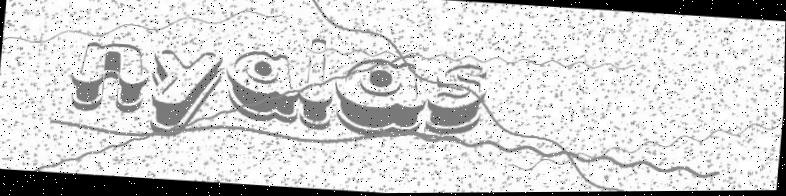a: (330, 50, 431, 141), (220, 47, 304, 128)
i: (296, 35, 341, 135)
n: (70, 34, 151, 114)
s: (422, 59, 491, 140)
y: (144, 43, 228, 140)
